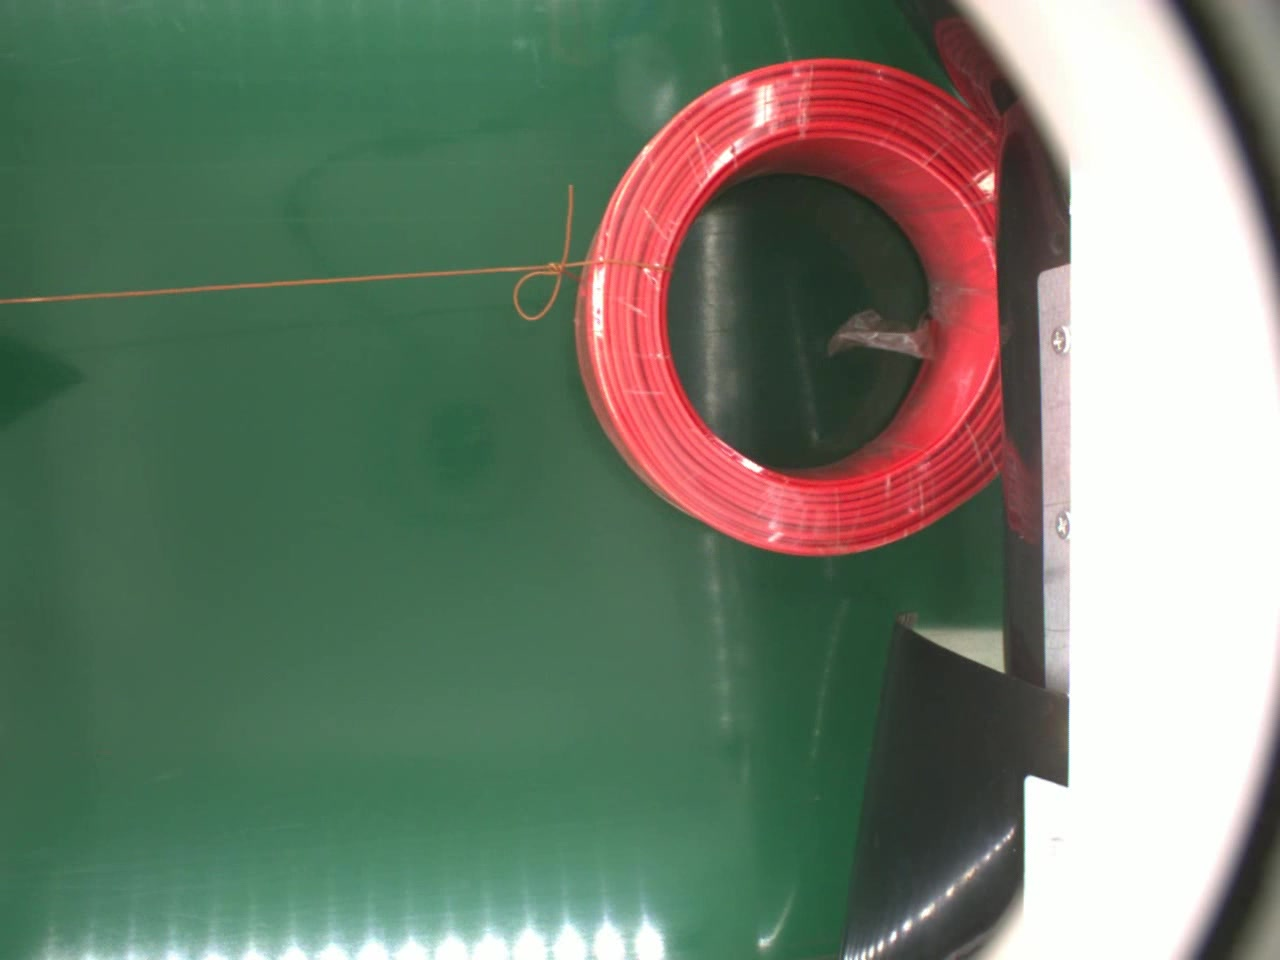red: (571, 52, 1007, 560)
